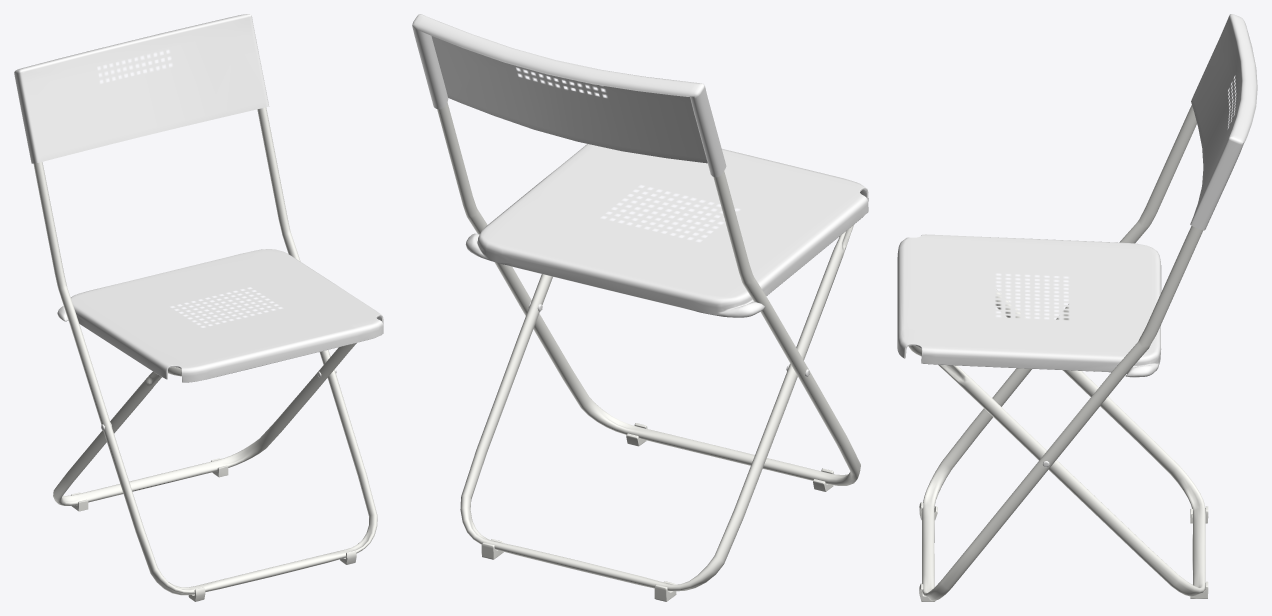
The model's file is fejan_krzeso_ogrodowe_10255307.glb.
The picture shows the model from 3 angles, left to right: view 1: azimuth 30°, elevation 25°; view 2: azimuth 150°, elevation 25°; view 3: azimuth 270°, elevation 25°; orthographic projection. The views are drawn at different scales.
Parts seen in each view (by area): view 1: fejan_krzeso_ogrodowe_10255307; view 2: fejan_krzeso_ogrodowe_10255307; view 3: fejan_krzeso_ogrodowe_10255307.
Part boxes in pixels (<box>): fejan_krzeso_ogrodowe_10255307: <box>14,14,383,601</box>; fejan_krzeso_ogrodowe_10255307: <box>412,14,868,601</box>; fejan_krzeso_ogrodowe_10255307: <box>897,14,1257,601</box>.
Size of the model in its own units: 0.4468 by 0.789 by 0.5332.
2 materials, 2 textured.
